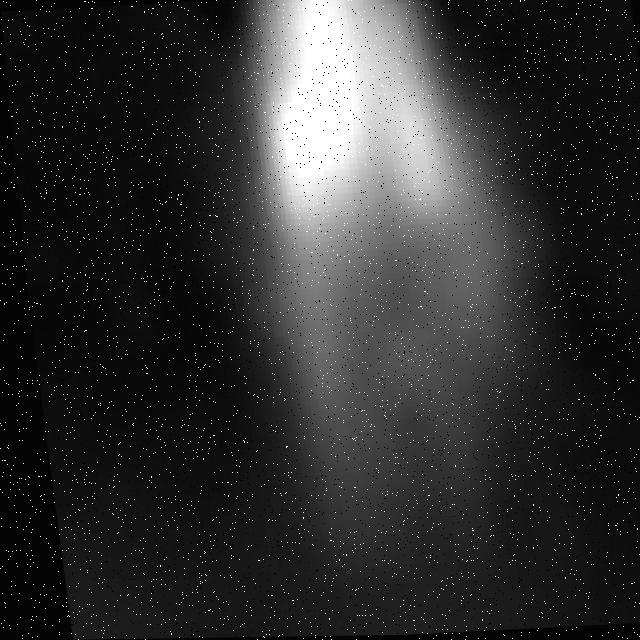person: (148, 1, 587, 568)
